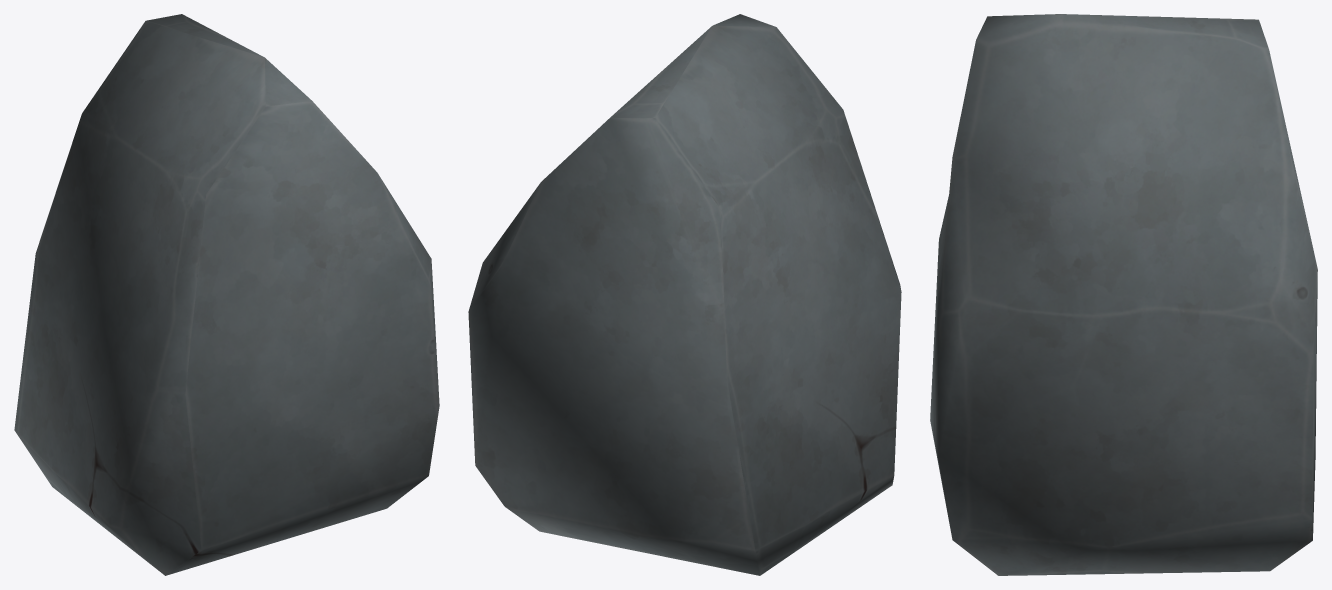
File: rock.glb
3 renders of one model, left to right at view 1: azimuth 30°, elevation 25°; view 2: azimuth 150°, elevation 25°; view 3: azimuth 270°, elevation 25°, orthographic. The views are drawn at different scales.
Parts seen in each view (by area): view 1: SM_Rock_01_LOD1; view 2: SM_Rock_01_LOD1; view 3: SM_Rock_01_LOD1.
Boxes of the visible parts, x1=… form: SM_Rock_01_LOD1: x1=14, y1=14, x2=439, y2=575; SM_Rock_01_LOD1: x1=468, y1=14, x2=901, y2=575; SM_Rock_01_LOD1: x1=930, y1=14, x2=1317, y2=575.
Bounding box in the file's own units: 0.4712 × 0.6658 × 0.4545.
Materials: 1 (1 with a texture image).
